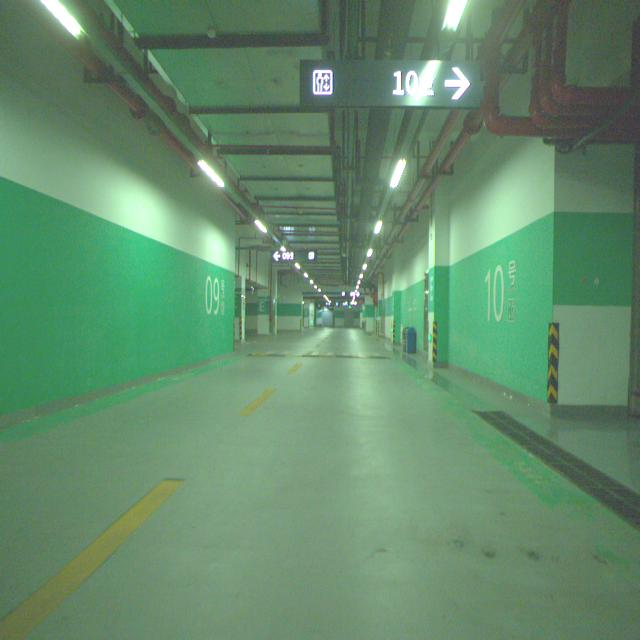wall: (427, 197, 451, 367)
